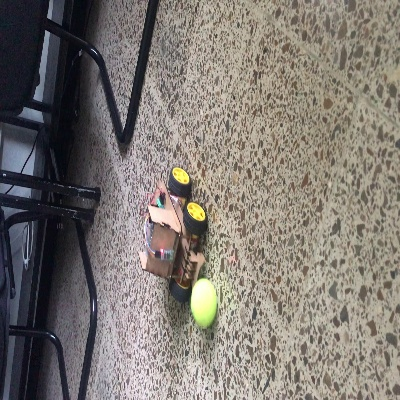Ball: (190, 279, 218, 327)
Robot: (137, 166, 209, 302)
